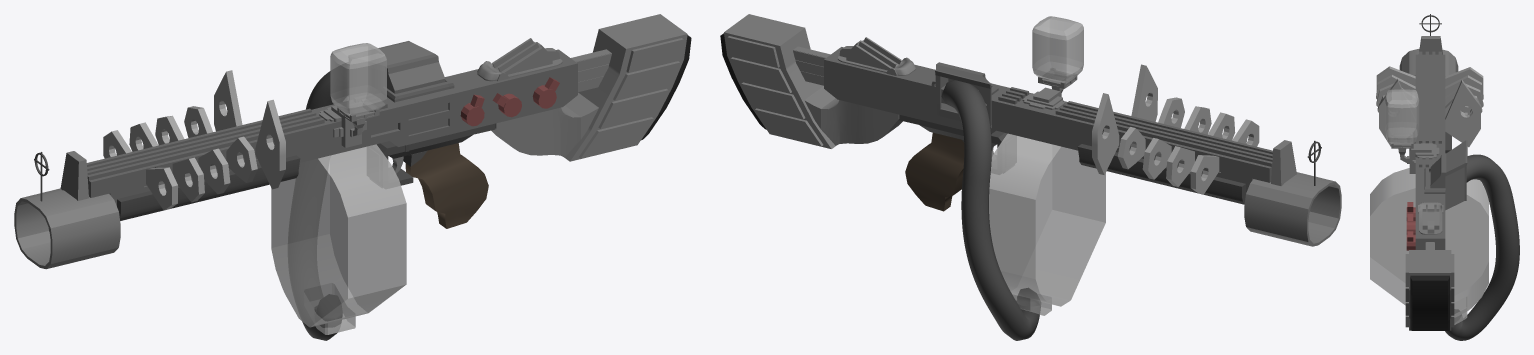
File: GooGun_Non-Textured.fbx
3 views of the same model, side by side, from view 1: azimuth 30°, elevation 25°; view 2: azimuth 150°, elevation 25°; view 3: azimuth 270°, elevation 25° (orthographic). The views are drawn at different scales.
Parts seen in each view (by area): view 1: drum, longPiece, butt, muzzleBooled_3, grip, buttStock, catalystVial, longRay (×2), pump, backScope_booled, ray3 (×2), ray1 (×2) (+10 smaller); view 2: drum, longPiece, tube, butt, muzzleBooled_3, grip, buttStock, catalystVial, longRay (×2), pump, backScope_booled, ray3 (×2) (+7 smaller); view 3: drum, longPiece, tube, butt1, butt, catalystVial, longRay (×2), backScope_booled, ray (×2), ray1 (×2), muzzleBooled_3, cattleHolder (+9 smaller).
Part boxes in pixels (x1,y1,x2,y2): drum: (271,144,406,334); longPiece: (87,41,577,205); butt: (564,14,687,161); muzzleBooled_3: (14,188,120,269); grip: (405,143,488,228); buttStock: (491,92,598,157); catalystVial: (330,43,386,115); longRay (×2): (214,70,285,189); pump: (117,155,300,220); backScope_booled: (477,38,562,81); ray3 (×2): (184,106,257,182); ray1 (×2): (129,122,204,202); drum: (989,133,1105,315); longPiece: (824,47,1272,191); tube: (941,80,1040,340); butt: (724,14,835,148); muzzleBooled_3: (1244,172,1341,246); grip: (905,132,964,211); buttStock: (804,86,902,145); catalystVial: (1032,16,1083,82); longRay (×2): (1092,64,1157,174); pump: (1077,144,1246,204); backScope_booled: (837,37,915,75); ray3 (×2): (1117,97,1184,169); drum: (1370,168,1488,324); longPiece: (1415,51,1467,249); tube: (1445,154,1519,340); butt1: (1410,275,1449,330); butt: (1405,250,1454,330); catalystVial: (1385,89,1419,143); longRay (×2): (1379,79,1480,147); backScope_booled: (1418,202,1443,234); ray (×2): (1376,66,1483,91); ray1 (×2): (1376,74,1483,99); muzzleBooled_3: (1399,48,1458,76); cattleHolder: (1407,143,1439,173).
Bounding box in the file's own units: 16.88 × 7.88 × 4.37.
